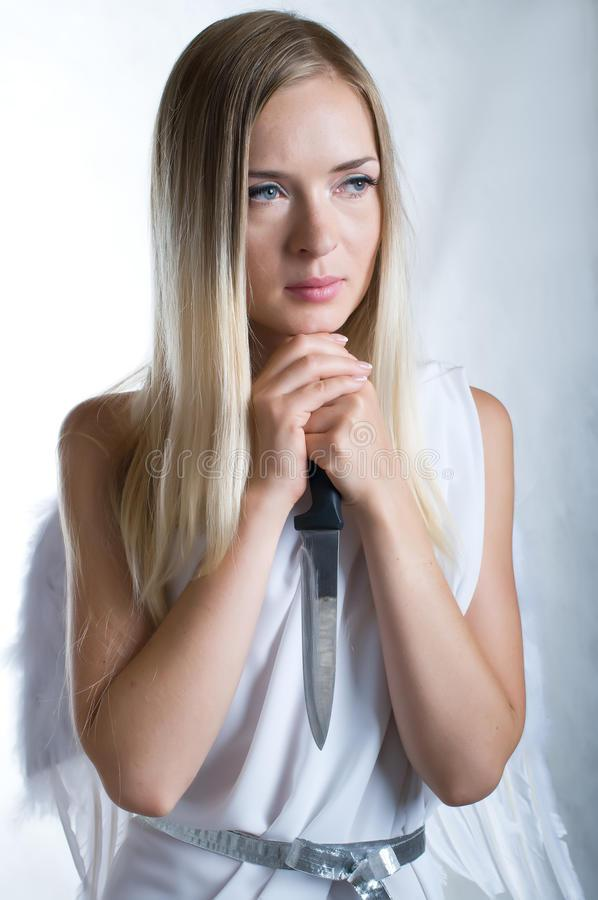criminal: (56, 8, 530, 900)
weapon: (285, 424, 358, 756)
